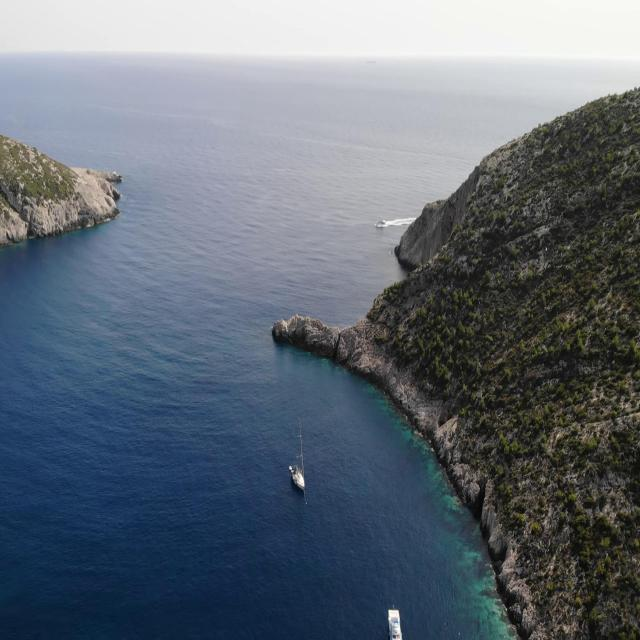sailboat: (290, 421, 306, 494)
